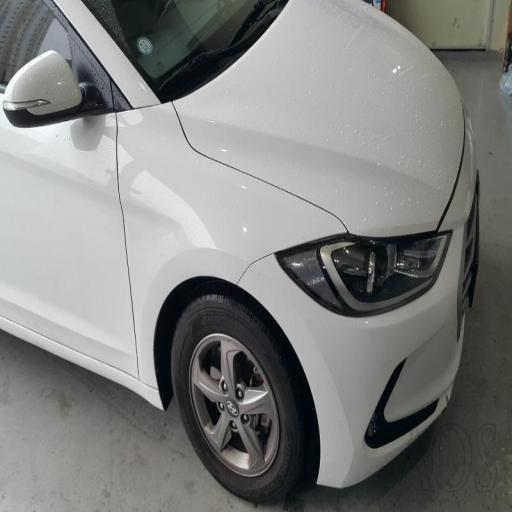scratch: (43, 77, 293, 332)
